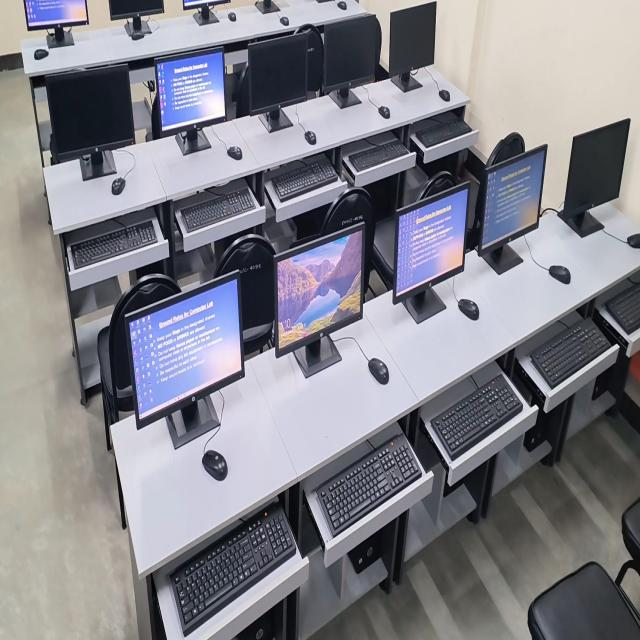Chair: (98, 274, 180, 449), (528, 562, 640, 639), (214, 235, 276, 355), (461, 133, 525, 249), (320, 188, 375, 260), (396, 170, 456, 214), (616, 497, 640, 584), (298, 24, 324, 92), (372, 216, 396, 289), (236, 65, 250, 117)
Keyboard: (171, 504, 295, 636), (316, 434, 421, 537), (431, 375, 522, 460), (530, 320, 611, 388), (71, 220, 157, 269), (410, 113, 479, 164), (342, 139, 415, 186), (180, 188, 254, 231), (270, 156, 338, 201), (605, 284, 640, 333)
Monitor: (126, 271, 244, 428), (274, 209, 374, 364), (393, 183, 470, 303), (477, 145, 547, 274), (45, 66, 134, 161), (560, 119, 630, 219), (156, 50, 226, 136), (247, 31, 310, 115), (323, 14, 381, 93), (389, 2, 436, 76), (24, 0, 89, 30), (109, 0, 164, 20)
Mouse: (202, 450, 227, 480), (368, 358, 389, 385), (458, 299, 479, 320), (549, 265, 570, 284), (112, 177, 125, 195), (227, 146, 242, 160), (627, 233, 640, 248), (305, 130, 316, 145), (34, 49, 49, 60), (378, 106, 390, 119), (439, 89, 450, 101), (337, 0, 347, 9), (280, 16, 289, 25), (228, 11, 236, 21)
